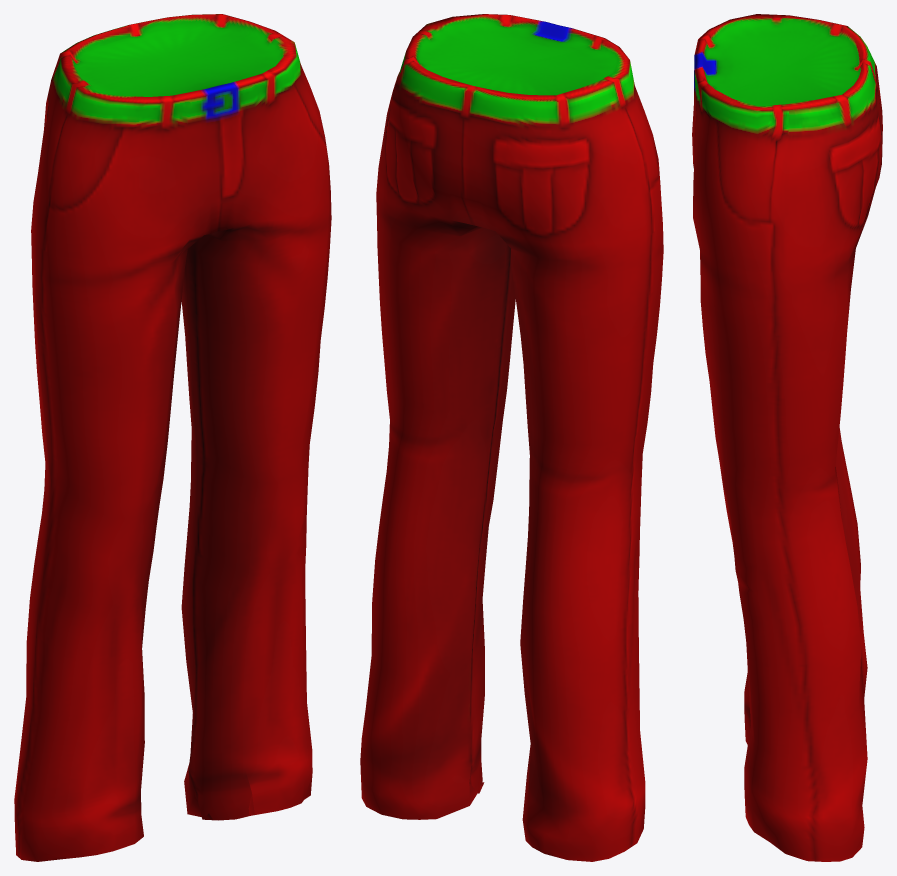
File: Bottom_PoliceSlacks.obj
The picture shows the model from 3 angles, left to right: view 1: azimuth 30°, elevation 25°; view 2: azimuth 150°, elevation 25°; view 3: azimuth 270°, elevation 25°; orthographic projection. The views are drawn at different scales.
Parts seen in each view (by area): view 1: Bottom_PoliceSlacks_0; view 2: Bottom_PoliceSlacks_0; view 3: Bottom_PoliceSlacks_0.
Boxes of the visible parts, bbox=[...] form: Bottom_PoliceSlacks_0: bbox=[14, 14, 331, 861]; Bottom_PoliceSlacks_0: bbox=[360, 14, 663, 861]; Bottom_PoliceSlacks_0: bbox=[692, 14, 882, 861].
Bounding box in the file's own units: 0.3731 × 0.9895 × 0.2299.
1 material, 1 textured.
